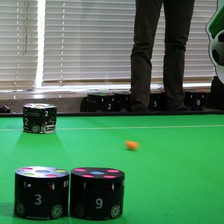ball: (124, 137, 139, 150)
robot: (12, 164, 69, 220), (69, 163, 124, 220), (19, 102, 57, 134), (85, 91, 115, 111), (185, 89, 206, 111), (113, 90, 131, 112), (150, 90, 163, 110)
